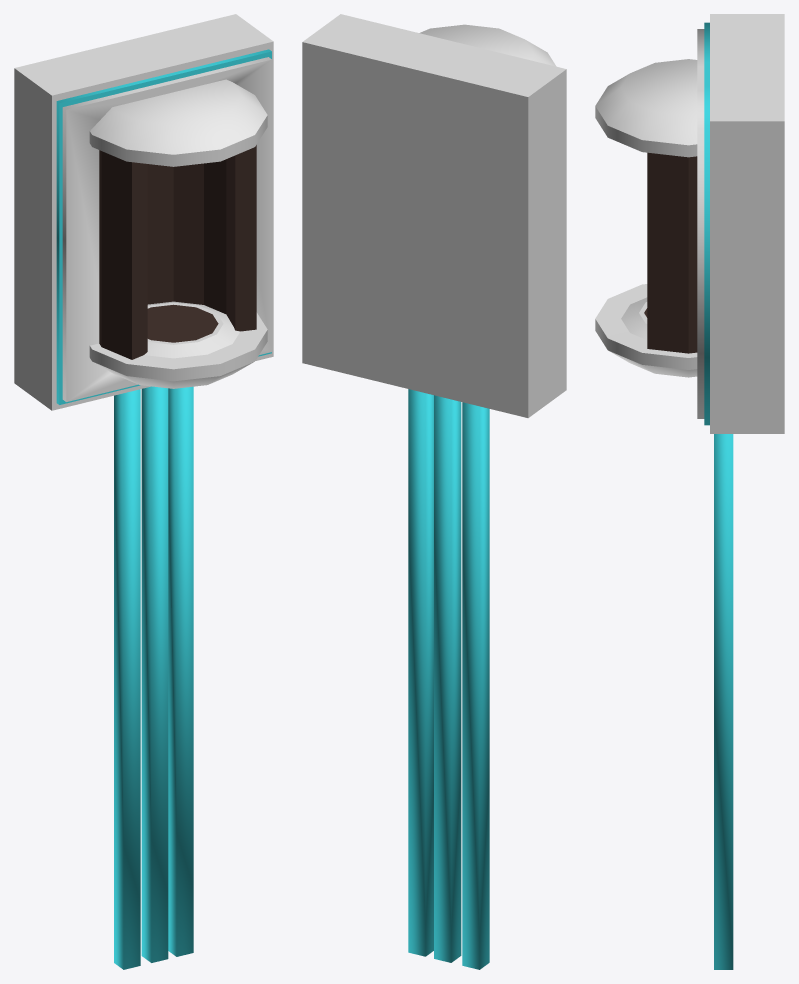
File: ShootButton Wall Broken.fbx
3 views of the same model, side by side, from view 1: azimuth 30°, elevation 25°; view 2: azimuth 150°, elevation 25°; view 3: azimuth 270°, elevation 25° (orthographic). The views are drawn at different scales.
Visible parts, largest first — view 1: Cube.008, Wall Switch 2.001, Wall Switch 2.002; view 2: Cube.008, Wall Switch 2.002; view 3: Cube.008, Wall Switch 2.002, Wall Switch 2.001.
Part boxes in pixels (x1,y1,x2,y2): Cube.008: (14, 14, 273, 969); Wall Switch 2.001: (99, 145, 256, 359); Wall Switch 2.002: (89, 79, 267, 388); Cube.008: (302, 14, 566, 969); Wall Switch 2.002: (419, 24, 556, 66); Cube.008: (697, 14, 784, 969); Wall Switch 2.002: (595, 59, 697, 377); Wall Switch 2.001: (647, 152, 697, 353).
Size of the model in its own units: 0.5733 by 2.21 by 0.4275.
